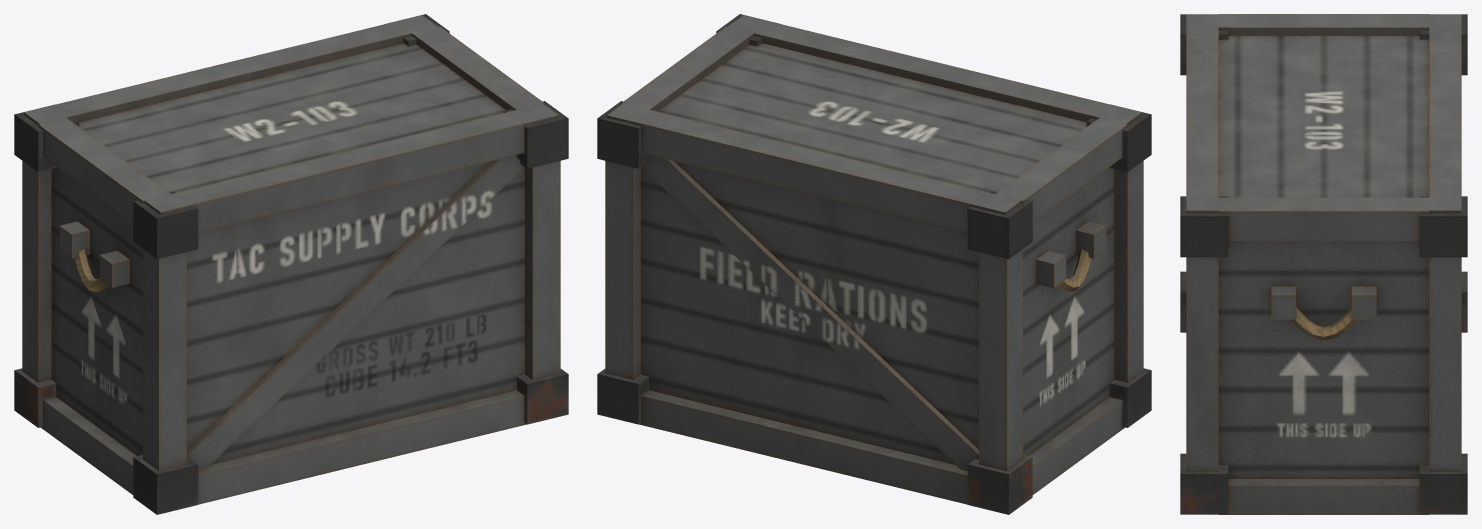
File: W2_SupplyCrate.fbx
The picture shows the model from 3 angles, left to right: view 1: azimuth 30°, elevation 25°; view 2: azimuth 150°, elevation 25°; view 3: azimuth 270°, elevation 25°; orthographic projection.
Visible parts, largest first — view 1: W2_SupplyCrate; view 2: W2_SupplyCrate; view 3: W2_SupplyCrate.
Part boxes in pixels (box(x1,y1,x2,y2)): W2_SupplyCrate: box(14, 14, 568, 514); W2_SupplyCrate: box(597, 14, 1151, 514); W2_SupplyCrate: box(1180, 14, 1467, 514).
Bounding box in the file's own units: 500 × 350 × 300.
Materials: 1 (1 with a texture image).
